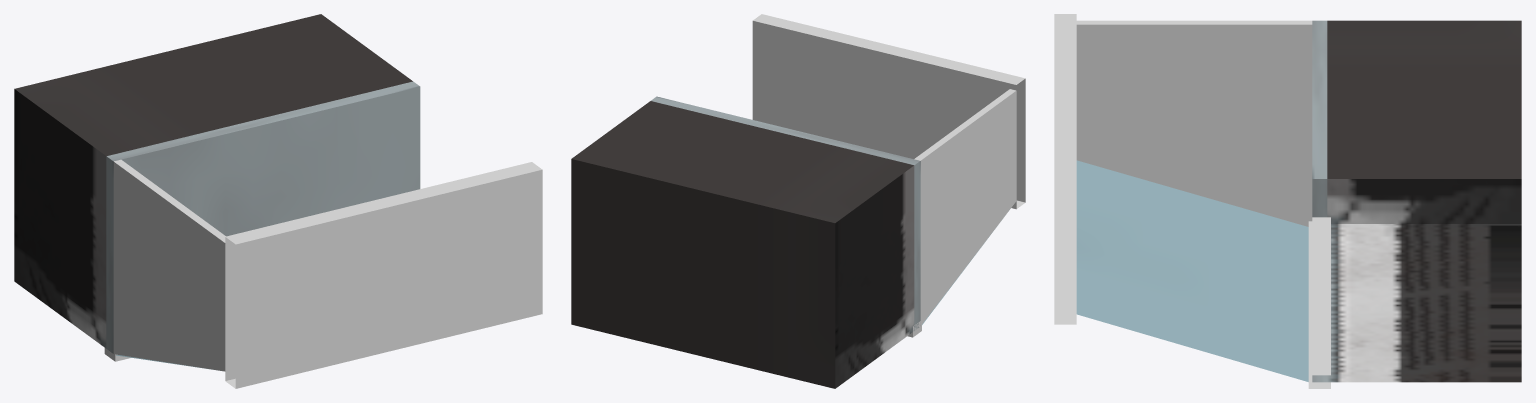
The model's file is pz_g020_location_shop_generic_01_white_display_counter_part2.obj.
3 views of the same model, side by side, from view 1: azimuth 30°, elevation 25°; view 2: azimuth 150°, elevation 25°; view 3: azimuth 270°, elevation 25° (orthographic). The views are drawn at different scales.
Parts seen in each view (by area): view 1: display_canopy_top, display_base_front, display_floor_top, outer_end_wall_right, display_base_right, display_canopy_front, display_floor_front, display_floor_right, display_canopy_bottom, outer_end_wall_edge; view 2: display_base_bottom, display_canopy_bottom, display_base_front, outer_end_wall_right, display_base_right, display_canopy_front, display_floor_front, display_canopy_top, display_floor_right, outer_end_wall_edge; view 3: outer_end_wall_left, sloped_front_glass, display_base_front, display_base_rear, display_base_right, lower_white_rail_front, display_canopy_front, display_canopy_rear, display_floor_front, outer_end_wall_edge, display_floor_right.
Part boxes in pixels (left/top/right/bottom): display_canopy_top: left=235, top=169, right=542, bottom=388; display_base_front: left=14, top=14, right=412, bottom=156; display_floor_top: left=121, top=86, right=420, bottom=236; outer_end_wall_right: left=113, top=162, right=225, bottom=371; display_base_right: left=14, top=89, right=106, bottom=348; display_canopy_front: left=225, top=162, right=541, bottom=244; display_floor_front: left=107, top=81, right=419, bottom=161; display_floor_right: left=106, top=156, right=113, bottom=353; display_canopy_bottom: left=225, top=237, right=235, bottom=380; outer_end_wall_edge: left=114, top=159, right=232, bottom=369; display_base_bottom: left=571, top=159, right=835, bottom=388; display_canopy_bottom: left=752, top=21, right=1016, bottom=209; display_base_front: left=571, top=101, right=913, bottom=222; outer_end_wall_right: left=920, top=91, right=1016, bottom=323; display_base_right: left=835, top=166, right=914, bottom=388; display_canopy_front: left=753, top=14, right=1025, bottom=84; display_floor_front: left=651, top=96, right=919, bottom=165; display_canopy_top: left=1016, top=78, right=1025, bottom=202; display_floor_right: left=914, top=161, right=920, bottom=330; outer_end_wall_edge: left=914, top=89, right=1015, bottom=160; outer_end_wall_left: left=1076, top=24, right=1312, bottom=226; sloped_front_glass: left=1076, top=160, right=1308, bottom=381; display_base_front: left=1327, top=20, right=1521, bottom=178; display_base_rear: left=1327, top=224, right=1521, bottom=382; display_base_right: left=1327, top=179, right=1521, bottom=223; lower_white_rail_front: left=1308, top=217, right=1330, bottom=375; display_canopy_front: left=1054, top=14, right=1076, bottom=171; display_canopy_rear: left=1054, top=172, right=1076, bottom=324; display_floor_front: left=1312, top=20, right=1327, bottom=178; outer_end_wall_edge: left=1076, top=20, right=1312, bottom=24; display_floor_right: left=1312, top=179, right=1327, bottom=217.
Size of the model in its own units: 1 by 0.64 by 1.25.
Materials: 1 (1 with a texture image).
